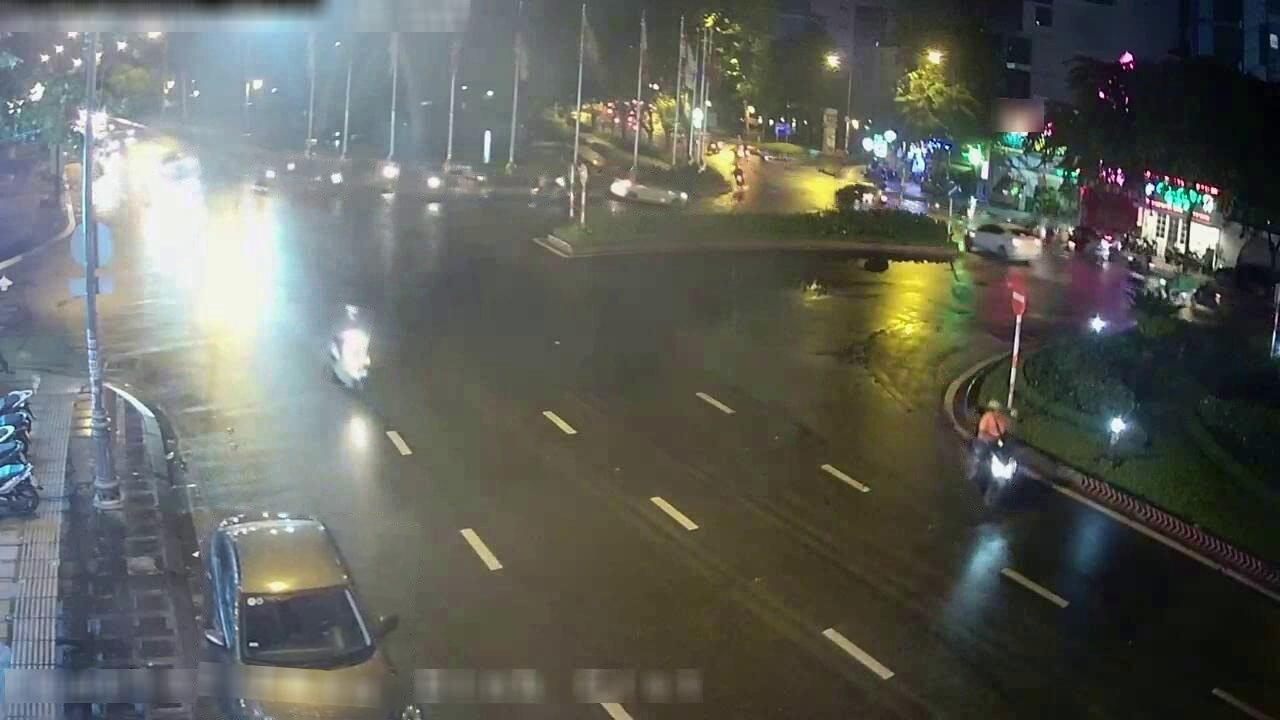Car: (203, 512, 396, 719), (965, 222, 1042, 261), (608, 176, 688, 209), (835, 182, 884, 208), (160, 150, 200, 181)
Motorcycle: (0, 463, 40, 514)
Motorcyclist: (968, 401, 1018, 506), (328, 305, 370, 388), (529, 174, 566, 202), (251, 166, 278, 195), (377, 161, 399, 192), (277, 157, 302, 184), (318, 171, 344, 195), (462, 174, 489, 197), (422, 172, 444, 196), (732, 160, 746, 194)
Sign: (1010, 290, 1026, 316)
